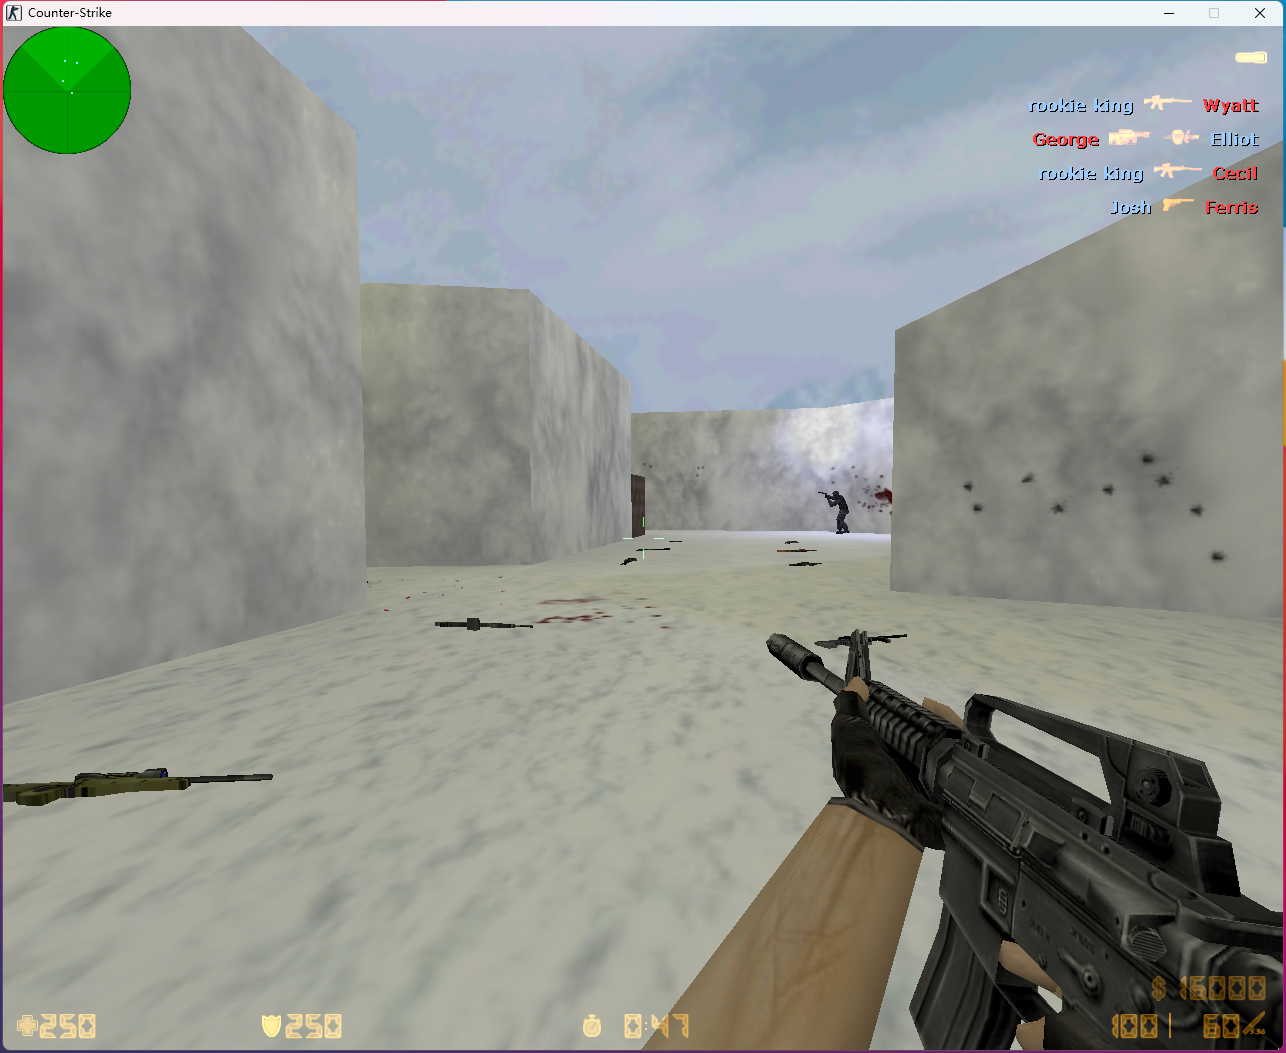C: (824, 488, 854, 536)
weapon: (1, 754, 291, 818), (805, 625, 918, 654), (423, 615, 535, 636), (618, 552, 641, 572), (787, 560, 825, 571), (633, 543, 670, 553), (772, 548, 821, 555)
